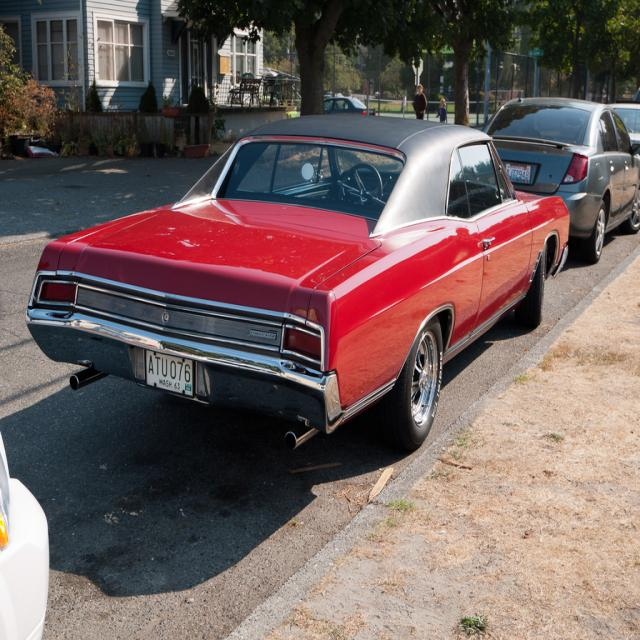car: (31, 116, 558, 459)
